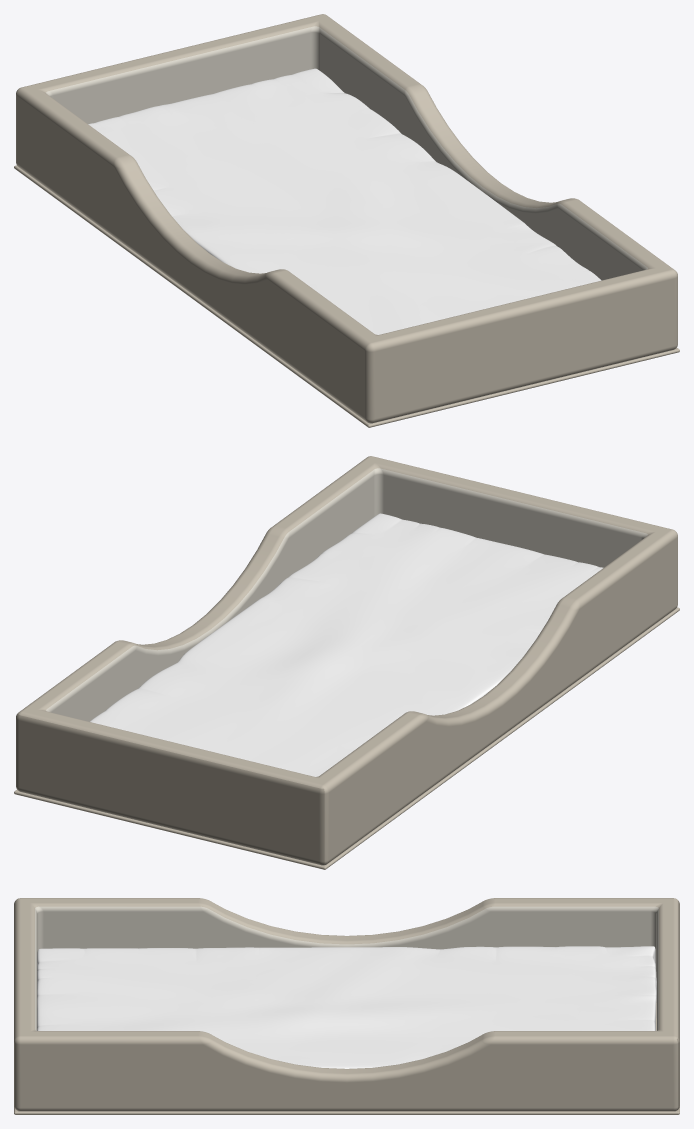
The picture shows the model from 3 angles, top to bottom: view 1: azimuth 30°, elevation 25°; view 2: azimuth 150°, elevation 25°; view 3: azimuth 270°, elevation 25°; orthographic projection. The views are drawn at different scales.
Parts seen in each view (by area): view 1: root; view 2: root; view 3: root.
Part boxes in pixels (x1,y1,x2,y2): root: [14, 14, 679, 427]; root: [14, 456, 679, 869]; root: [14, 898, 679, 1114].
Bounding box in the file's own units: 1.02 × 0.2555 × 2.01.
